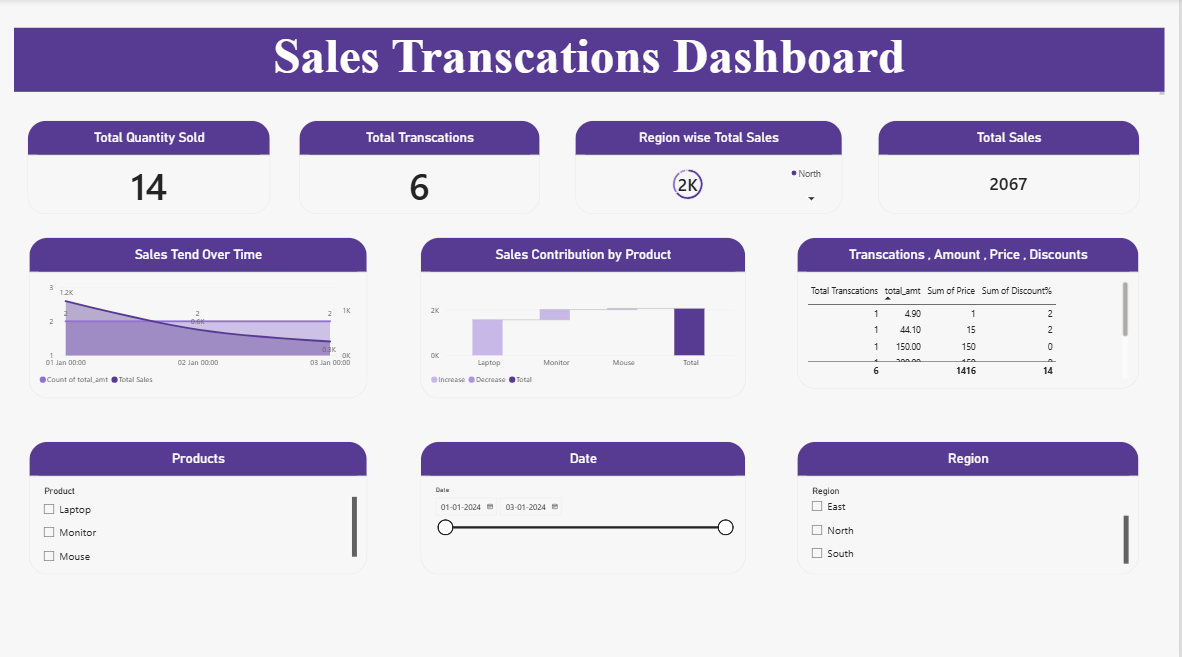

The page's visual inventory and layout, read from the dashboard file:
{"tool":"powerbi","page":{"name":"Page 1","canvas":[1920,1080],"ordinal":0},"visuals":[{"type":"card","title":"Total Quantity Sold","fields":{"Values":["Sales_Transactions.Total Quantity Sold"]},"box":[45.6,197.5,394.9,151.9],"z":0},{"type":"card","title":"Total Transcations","fields":{"Values":["Sales_Transactions.Total Transcations"]},"box":[489.1,197.5,391.9,151.9],"z":1},{"type":"textbox","title":"Sales Transcations Dashboard","box":[24.3,45.6,1871.4,109.4],"z":2},{"type":"donutChart","title":"Region wise Total Sales","fields":{"Category":["Sales_Transactions.Region"],"Y":["Sales_Transactions.Total Sales"]},"box":[935.7,197.5,434.4,151.9],"z":3},{"type":"areaChart","title":"Sales Tend Over Time","fields":{"Category":["Sales_Transactions.Date.Variation.Date Hierarchy.Year","Sales_Transactions.Date.Variation.Date Hierarchy.Quarter","Sales_Transactions.Date.Variation.Date Hierarchy.Month","Sales_Transactions.Date.Variation.Date Hierarchy.Day"],"Y":["CountNonNull(Sales_Transactions.total_amt)"],"Y2":["Sales_Transactions.Total Sales"]},"box":[48.6,388.9,549.9,261.3],"z":4},{"type":"waterfallChart","title":"Sales Contribution by Product","fields":{"Category":["Sales_Transactions.Product"],"Y":["Sales_Transactions.Total Sales"]},"box":[686.6,388.9,528.6,261.3],"z":5},{"type":"tableEx","title":"Transcations , Amount , Price , Discounts","fields":{"Values":["Sales_Transactions.Total Transcations","Sales_Transactions.total_amt","Sum(Sales_Transactions.Price)","Sum(Sales_Transactions.Discount%)"]},"box":[1297.2,388.9,555.9,246.1],"z":6},{"type":"card","title":"Total Sales","fields":{"Values":["Sales_Transactions.Total Sales"]},"box":[1430.9,197.5,425.3,151.9],"z":7},{"type":"slicer","title":"Date","fields":{"Values":["Sales_Transactions.Date"]},"box":[686.6,720,528.6,215.7],"z":8},{"type":"slicer","title":"Region","fields":{"Values":["Sales_Transactions.Region"]},"box":[1297.2,720,555.9,215.7],"z":9},{"type":"slicer","title":"Products","fields":{"Values":["Sales_Transactions.Product"]},"box":[48.6,720,549.9,215.7],"z":10}]}

Visuals, with their boxes in screenshot pixels (x1, y1, x2, y2), scaled from the page's 1920x1080 canvas onto the 1182x657 screenshot:
"Total Quantity Sold" card: Rect(28, 120, 271, 213)
"Total Transcations" card: Rect(301, 120, 542, 213)
"Sales Transcations Dashboard" textbox: Rect(15, 28, 1167, 94)
"Region wise Total Sales" donutChart: Rect(576, 120, 843, 213)
"Sales Tend Over Time" areaChart: Rect(30, 237, 368, 396)
"Sales Contribution by Product" waterfallChart: Rect(423, 237, 748, 396)
"Transcations , Amount , Price , Discounts" tableEx: Rect(799, 237, 1141, 386)
"Total Sales" card: Rect(881, 120, 1143, 213)
"Date" slicer: Rect(423, 438, 748, 569)
"Region" slicer: Rect(799, 438, 1141, 569)
"Products" slicer: Rect(30, 438, 368, 569)
